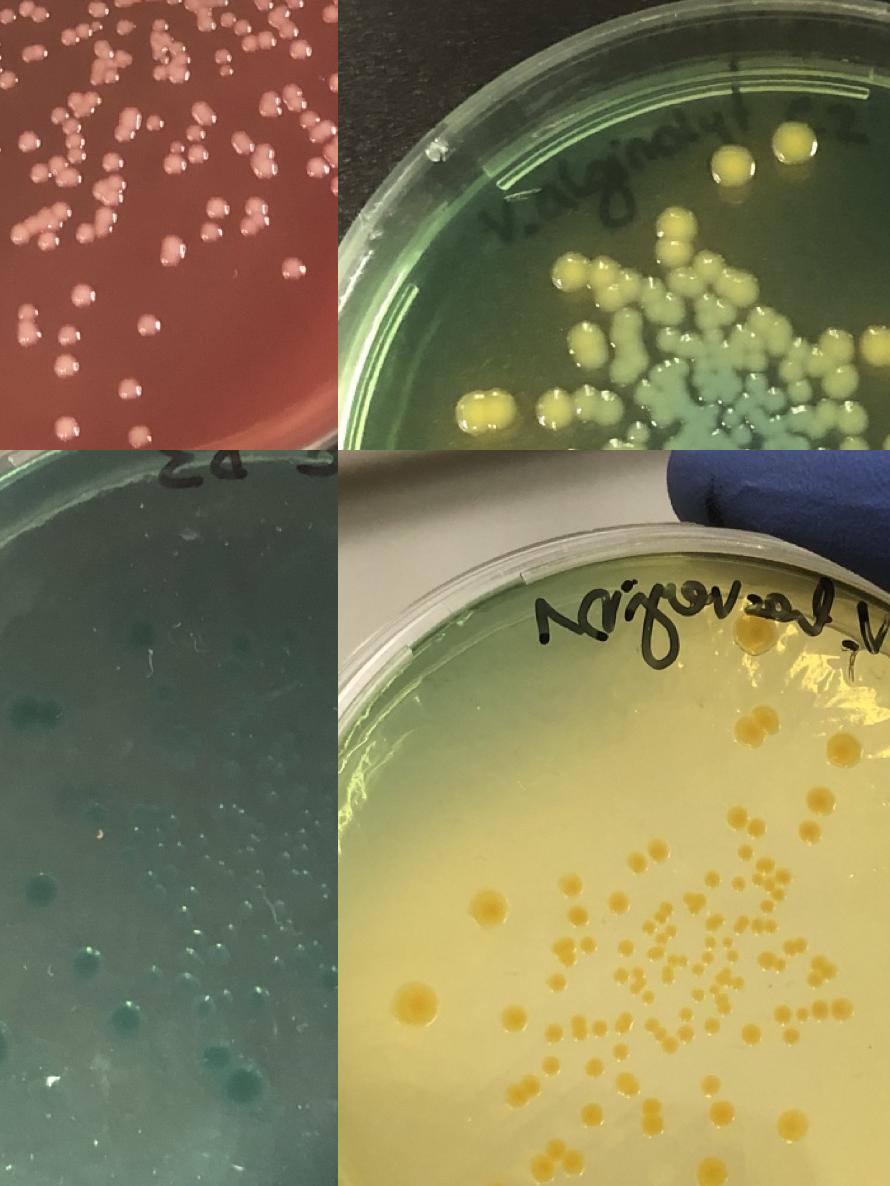pddamselae: (223, 1064, 267, 1108), (0, 1021, 11, 1072)
valgino: (744, 328, 860, 411), (555, 253, 645, 343), (568, 321, 640, 384), (535, 384, 624, 429), (692, 251, 760, 304), (566, 423, 694, 450), (457, 390, 516, 434), (694, 292, 736, 347), (656, 208, 693, 267), (814, 399, 869, 436), (634, 381, 673, 428), (711, 146, 753, 188), (773, 122, 815, 164), (746, 309, 792, 344), (720, 406, 753, 450), (859, 323, 890, 368), (656, 328, 701, 356), (652, 291, 686, 326), (650, 357, 689, 385), (699, 380, 723, 404), (843, 438, 869, 450), (790, 437, 812, 450)
vharveyi: (159, 122, 216, 180), (49, 105, 86, 192), (530, 1136, 586, 1181), (734, 708, 778, 750), (626, 838, 672, 876), (198, 194, 231, 246), (751, 866, 792, 904), (724, 806, 769, 840), (0, 0, 51, 26), (506, 1072, 542, 1108), (497, 1000, 532, 1036), (738, 615, 774, 650), (472, 890, 506, 926), (0, 34, 20, 94), (776, 1108, 810, 1143), (802, 784, 838, 817), (647, 1019, 679, 1055), (399, 990, 435, 1022), (826, 734, 862, 766), (709, 966, 732, 1015), (806, 955, 838, 988), (212, 45, 238, 82), (50, 412, 80, 444), (640, 1097, 664, 1137), (321, 41, 338, 96), (218, 10, 253, 36), (813, 999, 852, 1022), (695, 1160, 729, 1186), (662, 954, 688, 986), (35, 228, 63, 256), (18, 41, 52, 64), (68, 280, 98, 306), (134, 312, 162, 339), (14, 298, 42, 325), (110, 14, 138, 41), (119, 376, 146, 403), (128, 423, 156, 449), (53, 352, 81, 378), (280, 255, 308, 281), (244, 191, 272, 217), (25, 160, 53, 186), (304, 154, 332, 180), (99, 148, 127, 174), (14, 128, 42, 154), (288, 38, 316, 64), (55, 322, 83, 347), (90, 36, 119, 60), (142, 109, 168, 134), (54, 28, 80, 52), (740, 1021, 764, 1046), (559, 874, 583, 899), (568, 1014, 588, 1043), (709, 1101, 733, 1125), (699, 1073, 723, 1097), (798, 820, 822, 844), (296, 110, 322, 132), (628, 968, 648, 996), (758, 951, 786, 971), (74, 222, 97, 246), (580, 1104, 604, 1126), (568, 905, 592, 927), (556, 939, 574, 968), (318, 4, 338, 30), (684, 892, 706, 915), (608, 894, 632, 915), (782, 938, 808, 955), (655, 926, 676, 945), (112, 124, 134, 142), (149, 64, 171, 82), (151, 14, 171, 32), (655, 902, 673, 922), (615, 1013, 633, 1032), (616, 1072, 634, 1090), (542, 1058, 560, 1076), (586, 1058, 604, 1076), (613, 1042, 631, 1060), (782, 1028, 800, 1046), (544, 1025, 562, 1043), (678, 1025, 696, 1043), (591, 1019, 609, 1037), (703, 1018, 721, 1036), (773, 1006, 791, 1024), (689, 986, 707, 1004), (548, 972, 566, 990), (613, 966, 631, 984), (756, 855, 774, 873), (737, 844, 755, 862), (618, 940, 635, 958), (578, 936, 596, 953), (733, 916, 750, 934), (731, 876, 747, 893), (704, 870, 720, 887), (89, 18, 105, 34), (704, 916, 720, 932), (641, 921, 657, 936), (163, 0, 184, 9), (732, 976, 744, 990), (795, 1008, 807, 1021), (680, 1008, 692, 1021), (642, 991, 654, 1004), (692, 964, 704, 976), (701, 952, 713, 964), (727, 950, 739, 962), (648, 948, 660, 960), (722, 936, 734, 948), (703, 936, 715, 948), (765, 922, 777, 934), (762, 900, 774, 912), (93, 0, 105, 3)
